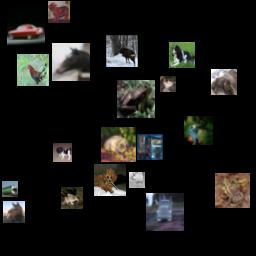automobile: (7, 9, 45, 47)
bird: (17, 54, 49, 86), (184, 116, 213, 145)
cat: (101, 127, 136, 162), (211, 69, 237, 95), (160, 76, 176, 92)
deer: (106, 35, 138, 67), (129, 172, 145, 188)
dog: (94, 164, 126, 196), (169, 42, 195, 68), (48, 1, 70, 23), (53, 143, 72, 162)
frog: (117, 80, 155, 118), (215, 173, 250, 208), (61, 187, 83, 209)
truck: (146, 193, 184, 231), (137, 134, 163, 160), (2, 181, 18, 197)
